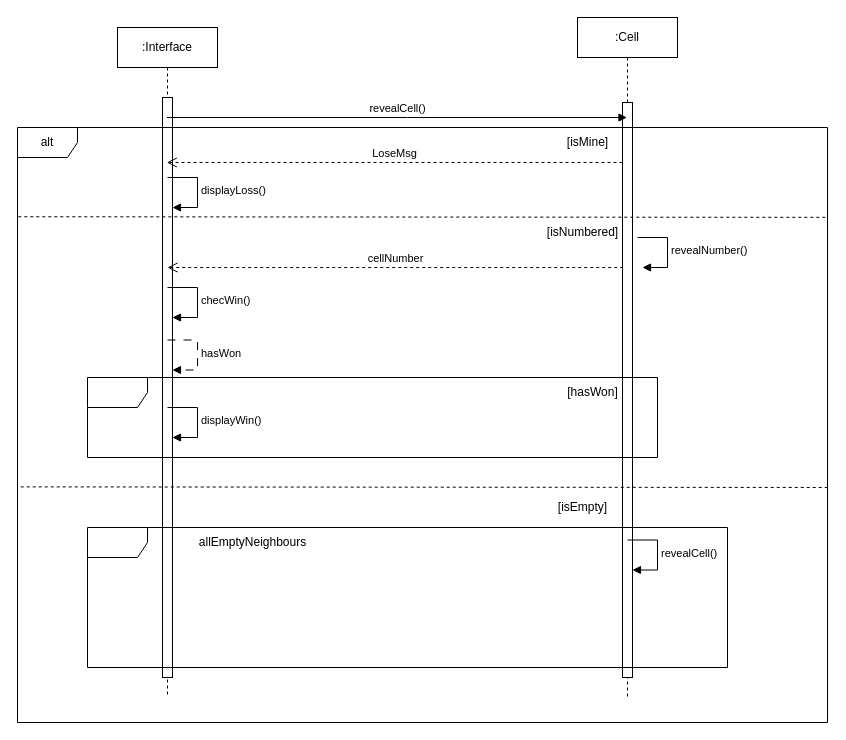
Some shapes in this 846 by 740 pixel diagram are drawn without their labels. Each missing label, with the box of its shape:
for: (86, 526, 728, 668)
opt: (86, 376, 658, 458)
